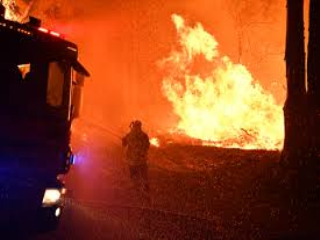fire: (155, 18, 283, 154)
